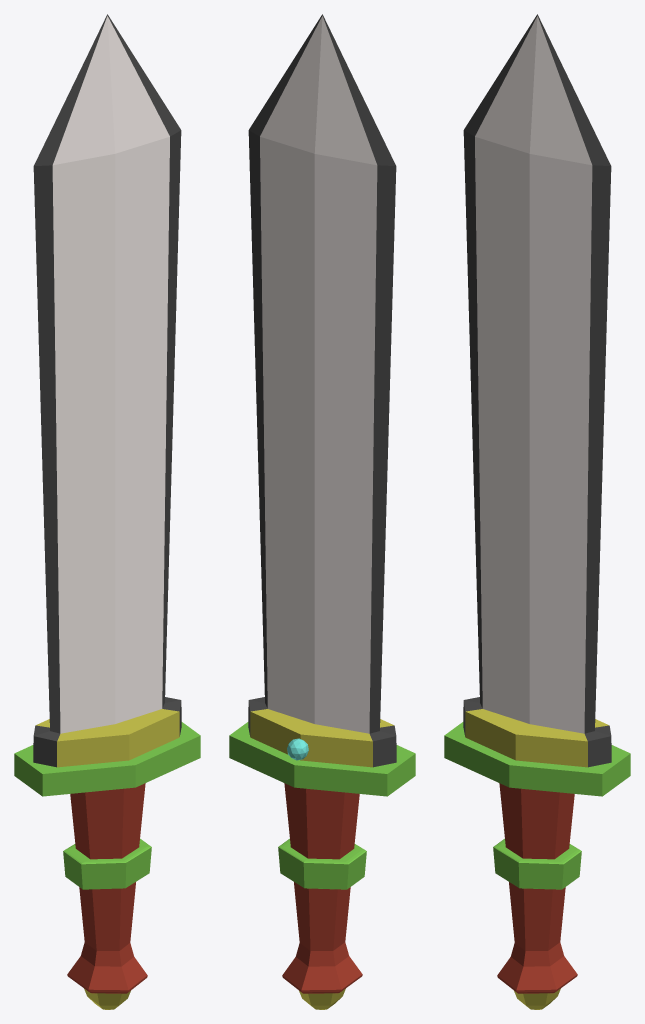
The model's file is sawrt.fbx.
The picture shows the model from 3 angles, left to right: view 1: azimuth 30°, elevation 25°; view 2: azimuth 150°, elevation 25°; view 3: azimuth 330°, elevation 25°; orthographic projection.
Visible parts, largest first — view 1: Cylinder; view 2: Cylinder; view 3: Cylinder.
Boxes of the visible parts, x1=… form: Cylinder: x1=14, y1=14, x2=200, y2=1009; Cylinder: x1=229, y1=14, x2=415, y2=1009; Cylinder: x1=444, y1=14, x2=630, y2=1009.
Bounding box in the file's own units: 261 × 1570 × 167.
